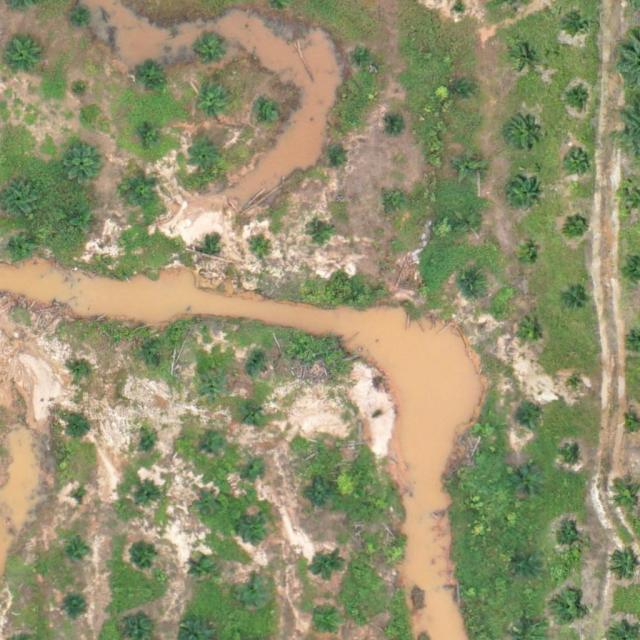Grass: (3, 178, 42, 217), (306, 481, 337, 512), (62, 208, 93, 239)
Small: (4, 37, 44, 76), (62, 141, 101, 180), (125, 173, 164, 212), (236, 576, 275, 615), (506, 176, 545, 215), (196, 35, 227, 67), (508, 116, 539, 148), (516, 318, 547, 350), (455, 151, 486, 183), (131, 540, 162, 572), (241, 513, 272, 544), (132, 60, 163, 91), (199, 88, 230, 119), (190, 141, 221, 172), (555, 526, 586, 557), (553, 594, 584, 625), (609, 552, 640, 583), (312, 553, 343, 584), (311, 609, 342, 640), (513, 468, 544, 499), (563, 145, 594, 176), (7, 231, 38, 262), (384, 542, 408, 566), (515, 406, 539, 430), (449, 79, 473, 103), (70, 5, 94, 29), (139, 123, 163, 147), (570, 13, 594, 37), (70, 357, 94, 381), (66, 599, 90, 623), (140, 429, 164, 453), (245, 455, 269, 479), (245, 400, 269, 424), (244, 354, 268, 378), (257, 102, 280, 126), (517, 246, 541, 269), (516, 555, 539, 579), (566, 86, 589, 110), (515, 44, 538, 68), (386, 114, 410, 137), (309, 223, 332, 247), (459, 213, 483, 236), (568, 214, 591, 238), (71, 76, 94, 100), (249, 238, 272, 262), (64, 417, 88, 440), (69, 489, 93, 512), (67, 542, 91, 565), (137, 481, 161, 504), (147, 354, 170, 378), (200, 377, 223, 401), (203, 434, 226, 458), (197, 494, 220, 518), (565, 291, 588, 314), (460, 274, 483, 297), (323, 144, 346, 167), (383, 193, 406, 216), (353, 46, 376, 69), (191, 559, 214, 582), (200, 242, 216, 258), (624, 416, 639, 432), (569, 378, 584, 393), (565, 448, 580, 463)
